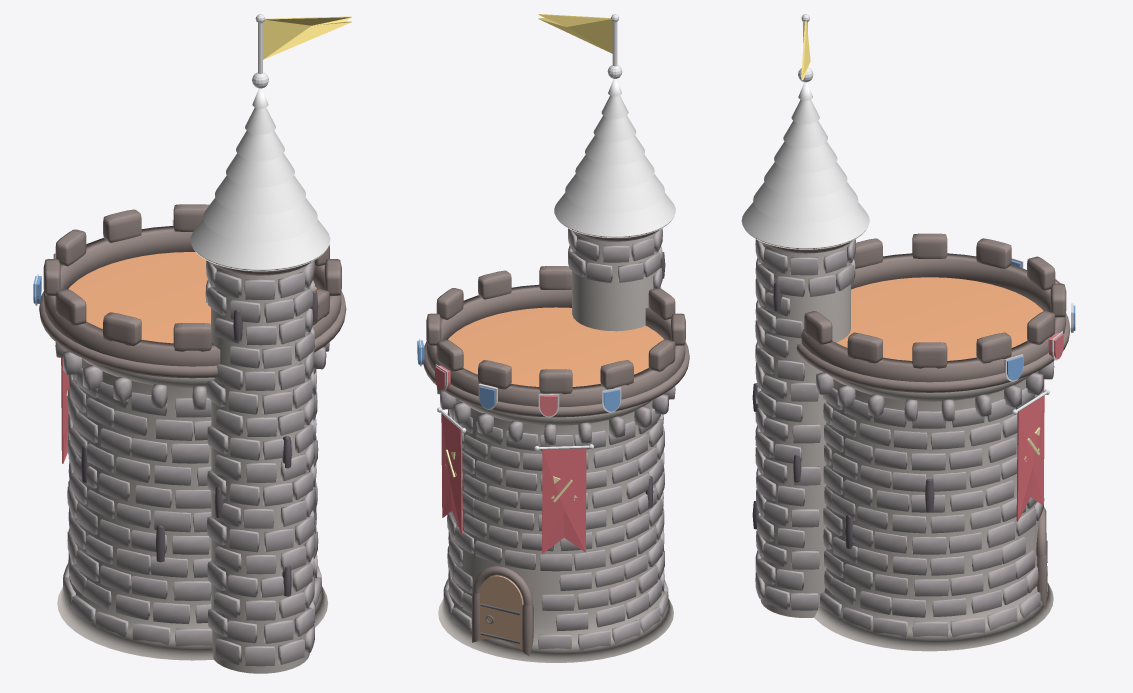
Rendered from ArcherTower.glb.
3 views of the same model, side by side, from view 1: azimuth 30°, elevation 25°; view 2: azimuth 150°, elevation 25°; view 3: azimuth 270°, elevation 25° (orthographic). The views are drawn at different scales.
Parts seen in each view (by area): view 1: Stone, Mortar, Trim, Roof, Deck, Flag, Window, Banner, Pole; view 2: Stone, Mortar, Trim, Deck, Roof, Banner, Wood, Flag, Pole, ShieldA, ShieldB; view 3: Stone, Mortar, Trim, Deck, Roof, Banner, Window, Pole.
Boxes of the visible parts, box(x1,y1,x2,y2) form: Stone: box(55, 260, 329, 666); Mortar: box(57, 265, 328, 673); Trim: box(39, 204, 346, 378); Roof: box(190, 88, 330, 271); Deck: box(68, 252, 316, 343); Flag: box(263, 16, 351, 59); Window: box(81, 291, 318, 596); Banner: box(61, 357, 69, 463); Pole: box(35, 14, 268, 305); Stone: box(436, 228, 675, 650); Mortar: box(438, 232, 673, 662); Trim: box(423, 229, 689, 656); Deck: box(448, 307, 664, 386); Roof: box(554, 79, 675, 237); Banner: box(441, 413, 586, 553); Wood: box(479, 575, 523, 649); Flag: box(538, 14, 612, 53); Pole: box(419, 14, 622, 451); ShieldA: box(417, 340, 620, 411); ShieldB: box(435, 365, 557, 416); Stone: box(755, 239, 1054, 637); Mortar: box(760, 243, 1053, 651); Trim: box(759, 233, 1070, 608); Deck: box(836, 277, 1043, 360); Roof: box(741, 82, 869, 249); Banner: box(1016, 379, 1044, 521); Window: box(752, 282, 934, 548); Pole: box(798, 14, 1073, 414).
Size of the model in its own units: 20.43 by 34.84 by 20.43.
